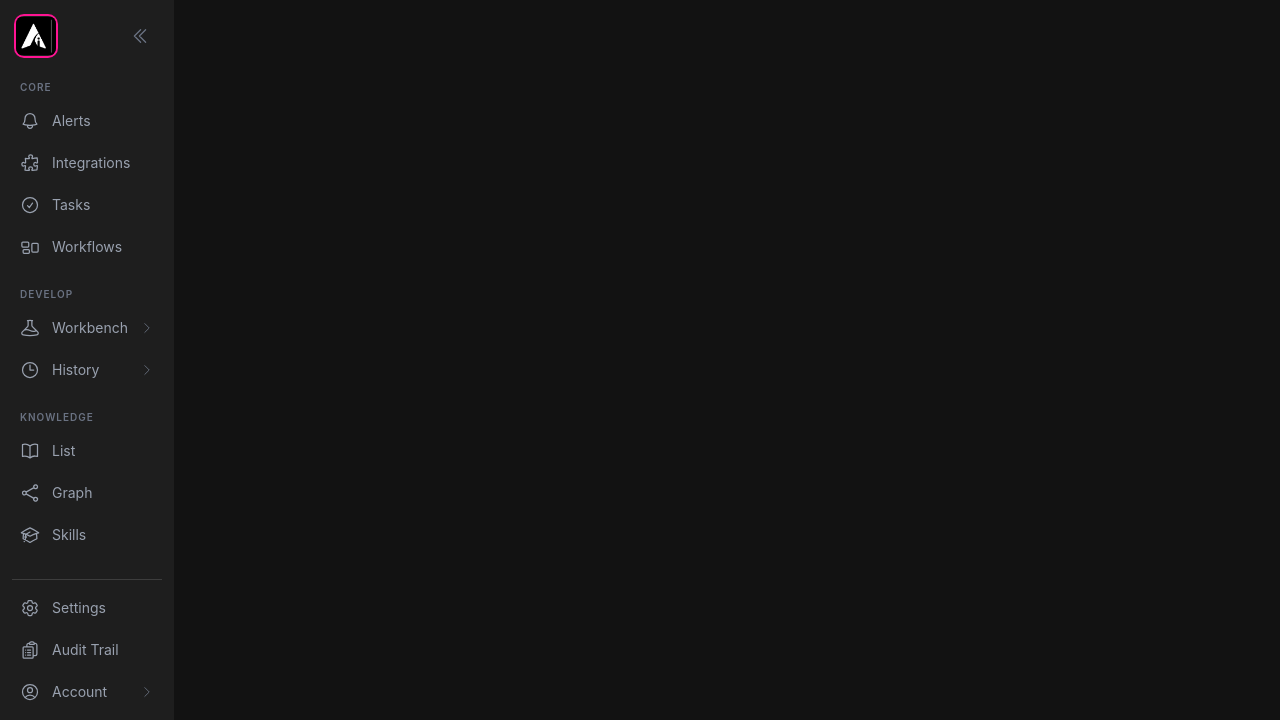
Test: Sidebar › submenu flyouts › closes flyout on Escape key
Open the flyout
Click the link "Workbench".
click(87, 328)  # box [20,318,154,338]
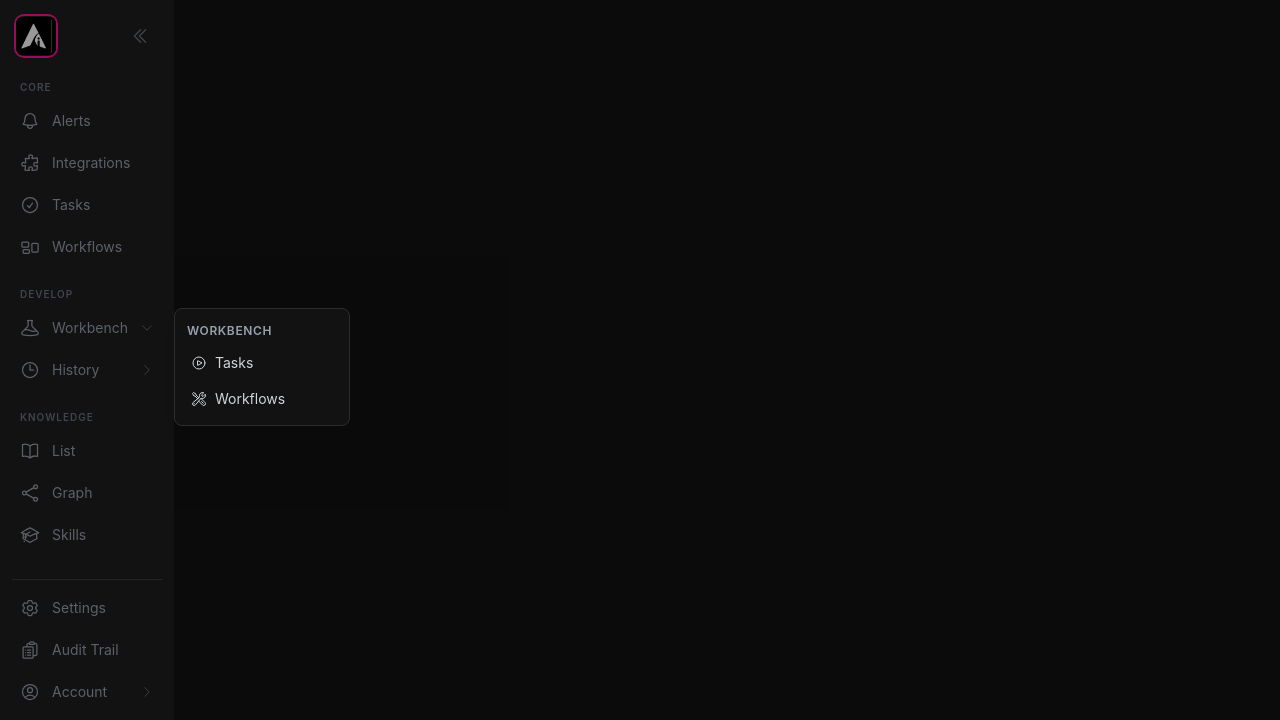
Now the menu is shown, box [174,308,350,426]
Press Escape
Press Escape
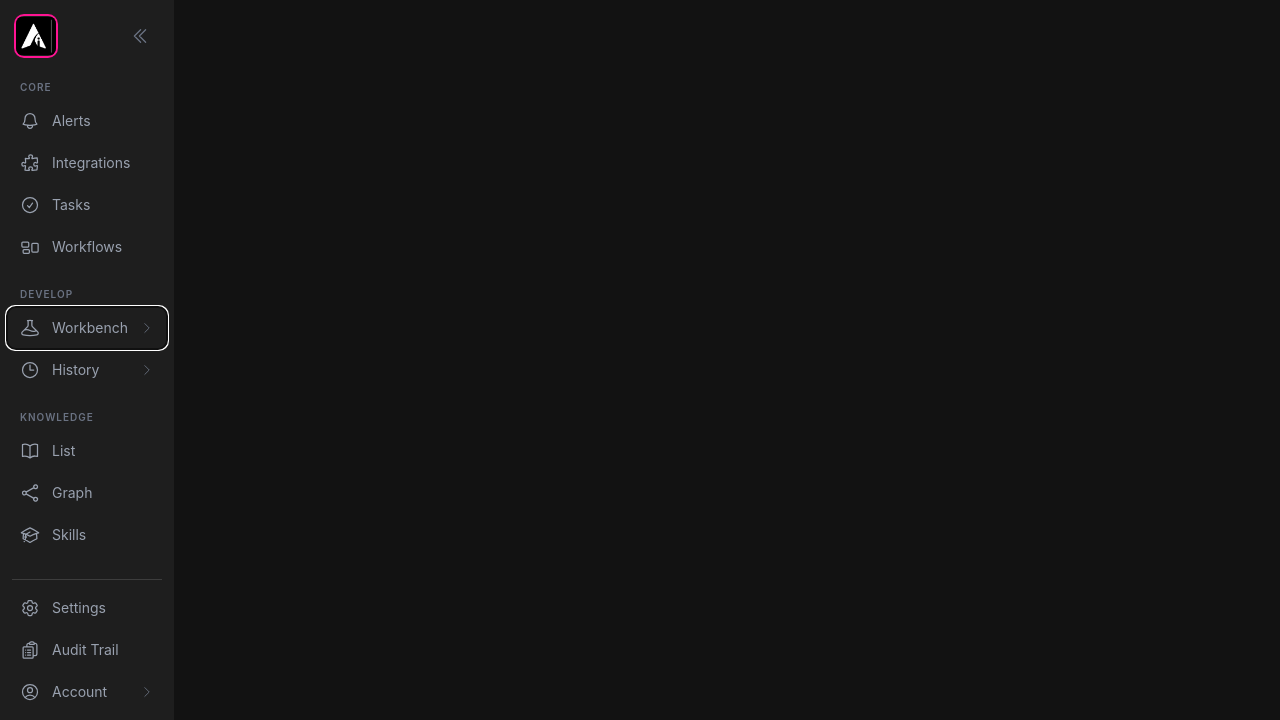
Now the menu is gone
